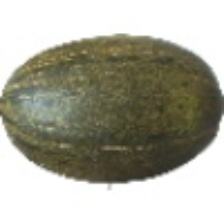honeydew: (24, 16, 177, 166)
